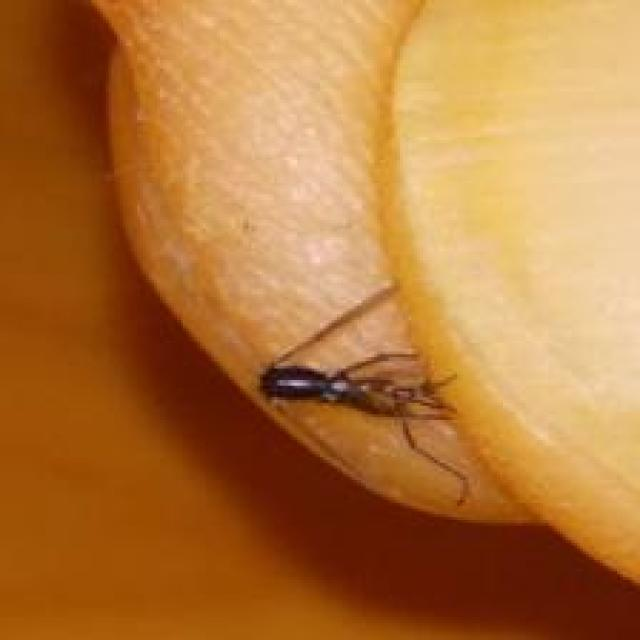Aedes albopictus: (258, 283, 473, 508)
